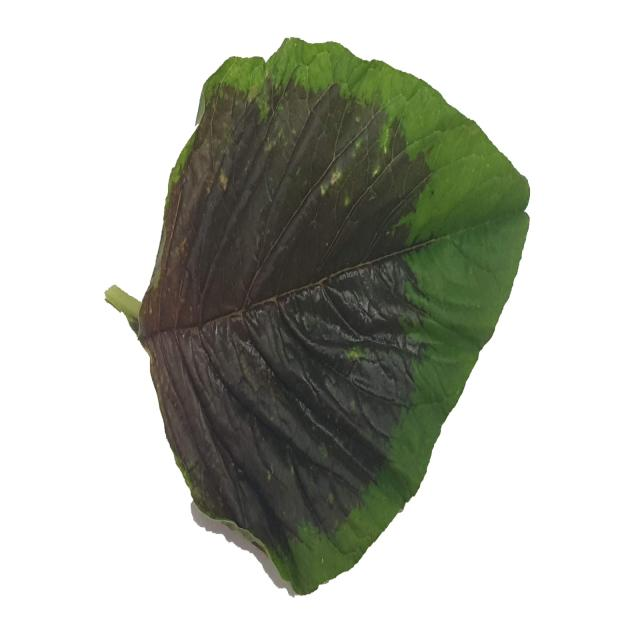Medicinal-Arive Dantu: (106, 31, 529, 599)
